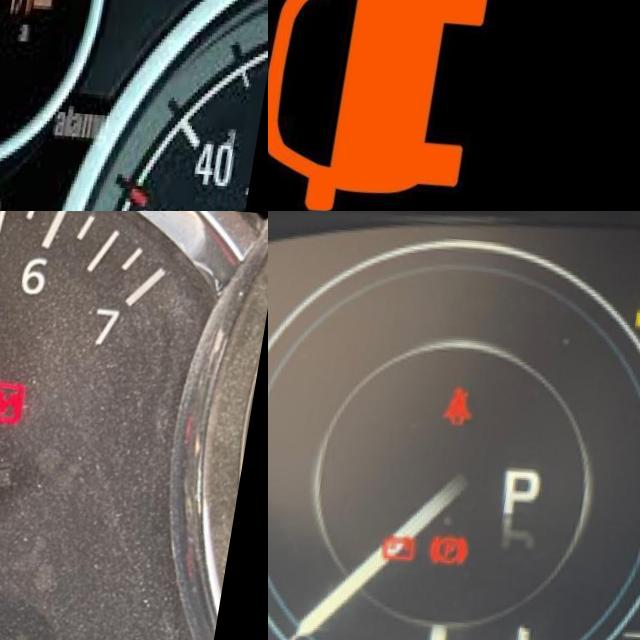Seat Belt: (447, 380, 486, 427)
